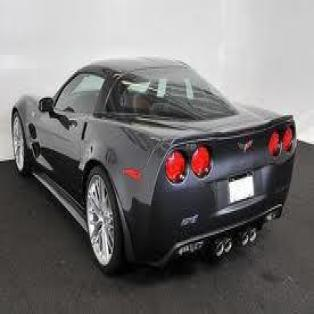Auto: (4, 48, 300, 283)
